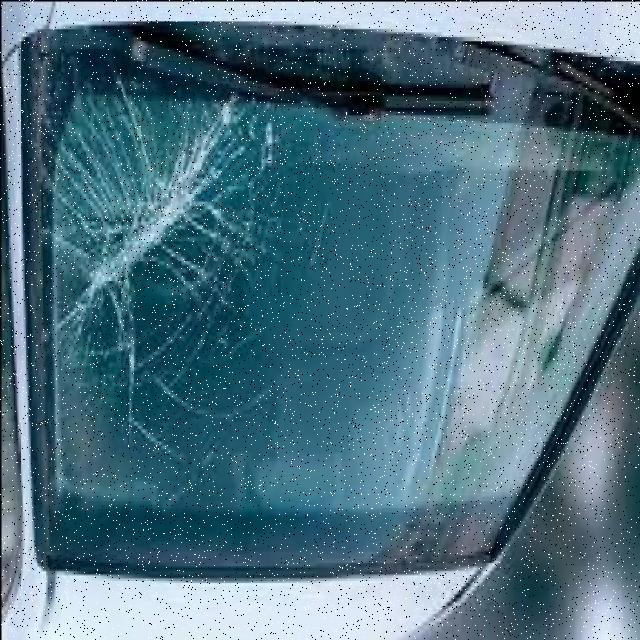damage: (68, 118, 219, 306)
